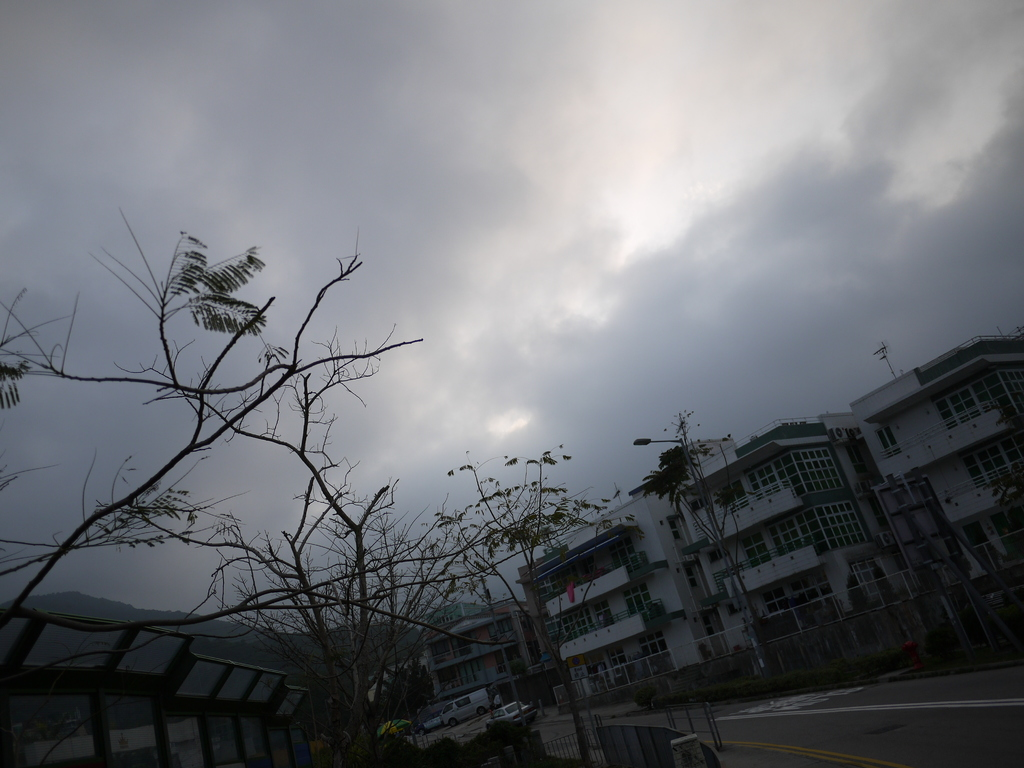Tree: (0, 225, 418, 629), (413, 442, 643, 767), (241, 465, 461, 767), (635, 404, 770, 672)
